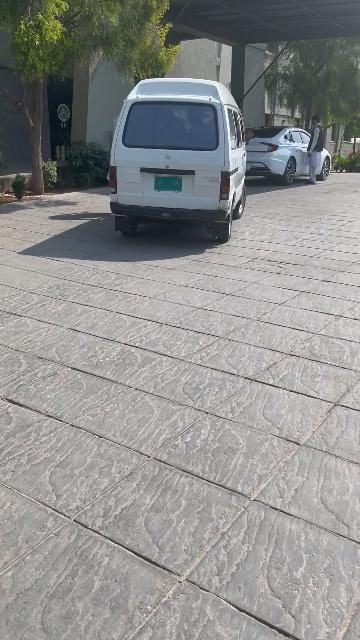plate: (152, 173, 184, 191)
